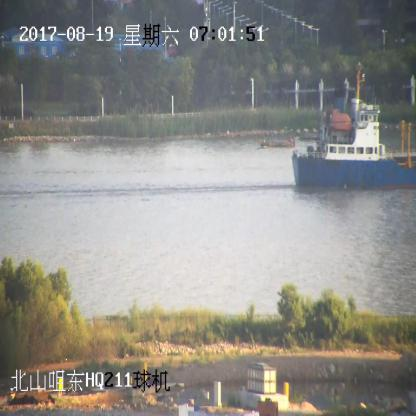Fishing Boat: (262, 137, 295, 148)
